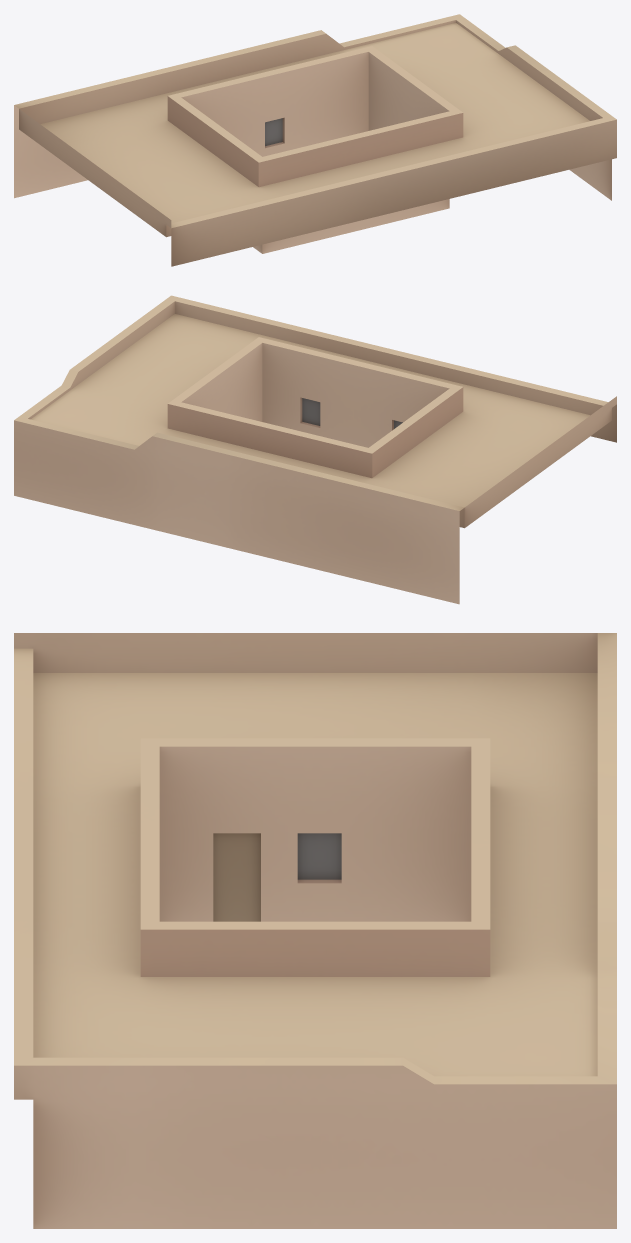
Rendered from KSA-11.glb.
The picture shows the model from 3 angles, top to bottom: view 1: azimuth 30°, elevation 25°; view 2: azimuth 150°, elevation 25°; view 3: azimuth 270°, elevation 25°; orthographic projection. The views are drawn at different scales.
Parts seen in each view (by area): view 1: atturaifworldheritagesite70030076209992609; view 2: atturaifworldheritagesite70030076209992609; view 3: atturaifworldheritagesite70030076209992609.
Part boxes in pixels (x1=…): atturaifworldheritagesite70030076209992609: x1=14, y1=14, x2=616, y2=266; atturaifworldheritagesite70030076209992609: x1=14, y1=295, x2=616, y2=604; atturaifworldheritagesite70030076209992609: x1=14, y1=633, x2=616, y2=1228.
Bounding box in the file's own units: 18 × 3.75 × 11.
Materials: 1 (1 with a texture image).
